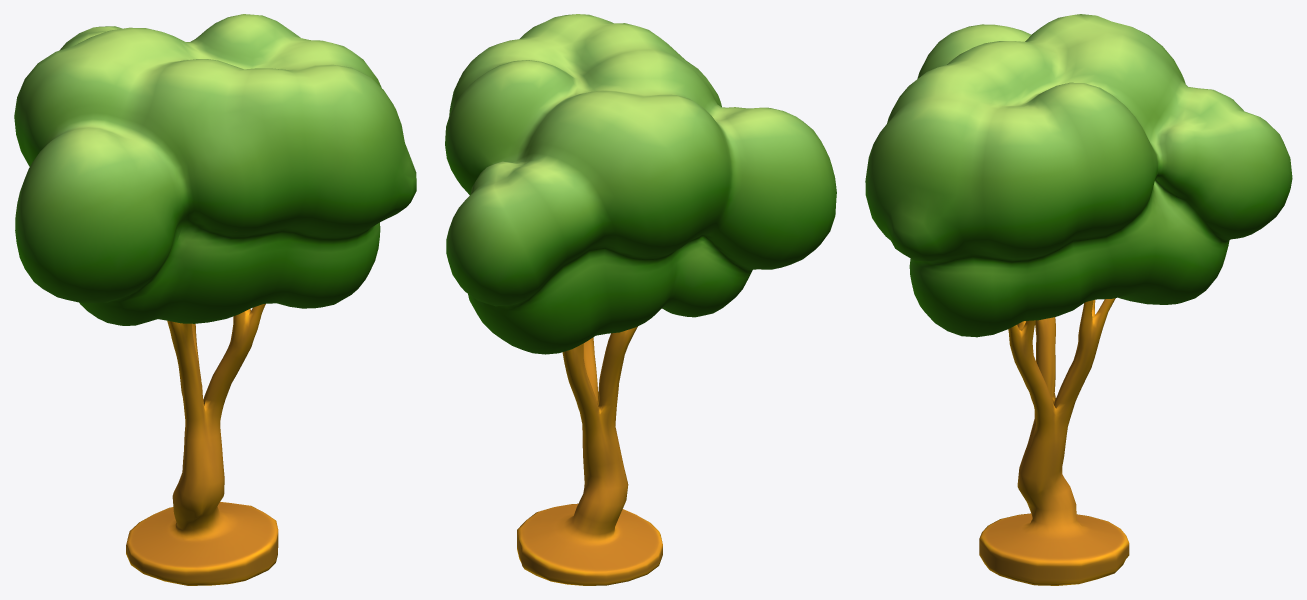
Rendered from tree3.fbx.
3 views of the same model, side by side, from view 1: azimuth 30°, elevation 25°; view 2: azimuth 150°, elevation 25°; view 3: azimuth 270°, elevation 25° (orthographic). The views are drawn at different scales.
Visible parts, largest first — view 1: trunk_2; view 2: trunk_2; view 3: trunk_2.
Part boxes in pixels (box(x1,y1,x2,y2)): trunk_2: box(14, 14, 416, 585); trunk_2: box(445, 14, 836, 585); trunk_2: box(865, 14, 1292, 585).
Bounding box in the file's own units: 333 × 439 × 344.
